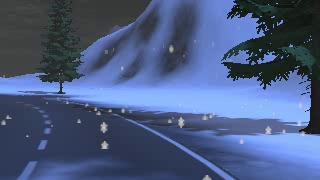Lane: (0, 93, 237, 179)
